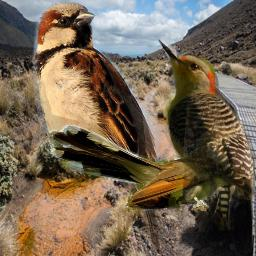Cuckoo: (49, 125, 243, 211)
Swallow: (32, 2, 164, 254)
Woodpecker: (157, 39, 255, 230)
